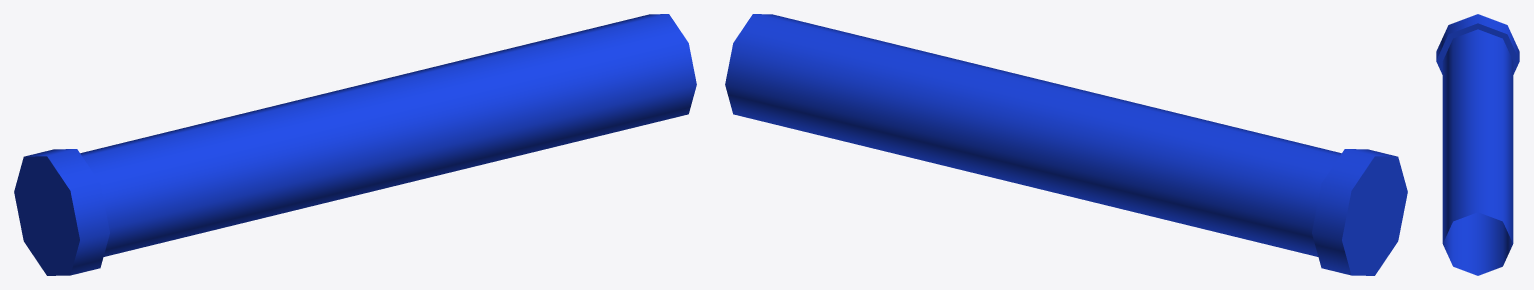
File: pipe4.fbx
The picture shows the model from 3 angles, left to right: view 1: azimuth 30°, elevation 25°; view 2: azimuth 150°, elevation 25°; view 3: azimuth 270°, elevation 25°; orthographic projection. The views are drawn at different scales.
Parts seen in each view (by area): view 1: 1.002; view 2: 1.002; view 3: 1.002.
Part boxes in pixels (x1,y1,x2,y2): 1.002: [14, 14, 696, 275]; 1.002: [725, 14, 1407, 275]; 1.002: [1436, 14, 1519, 275].
Bounding box in the file's own units: 3546 × 652 × 652.
